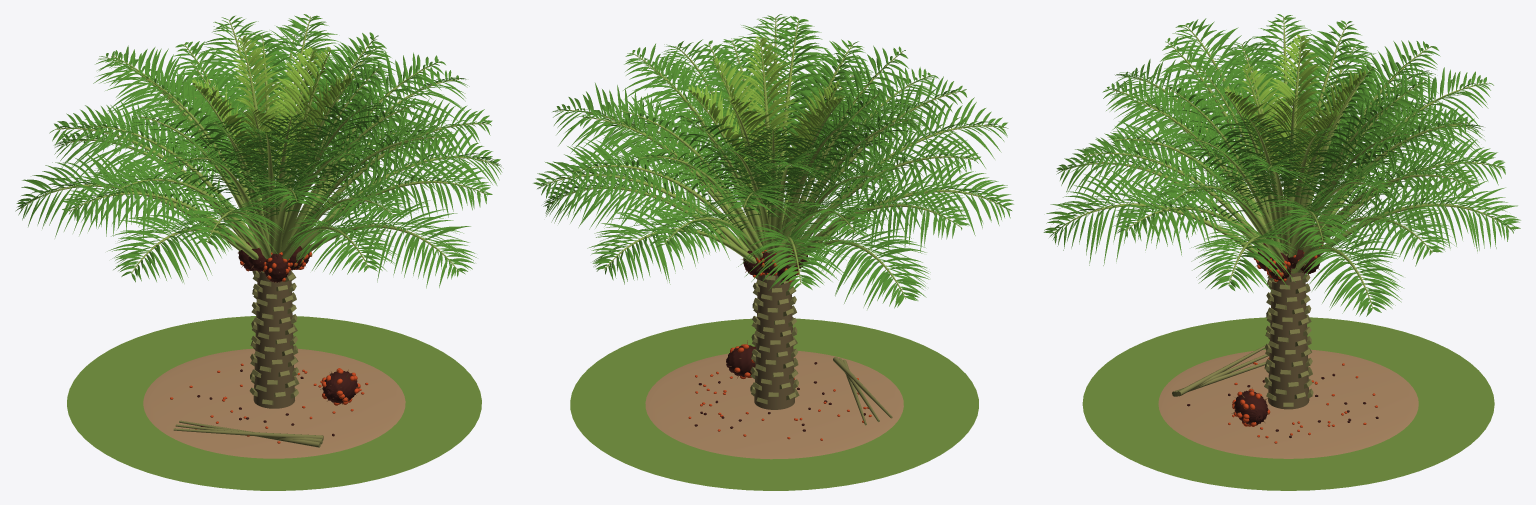
The model's file is kelapa-sawit-tm-remaja.glb.
3 views of the same model, side by side, from view 1: azimuth 30°, elevation 25°; view 2: azimuth 150°, elevation 25°; view 3: azimuth 270°, elevation 25° (orthographic).
Visible parts, largest first — view 1: rumput, piringan, anak_daun_46, batang, anak_daun_44, anak_daun_47, anak_daun_41, anak_daun_38, anak_daun_39, anak_daun_36, anak_daun_30, anak_daun_31 (+41 smaller); view 2: rumput, piringan, anak_daun_47, batang, anak_daun_45, anak_daun_39, anak_daun_40, anak_daun_42, anak_daun_32, anak_daun_44, anak_daun_36, anak_daun_31 (+42 smaller); view 3: rumput, piringan, anak_daun_46, anak_daun_48, batang, anak_daun_45, anak_daun_43, anak_daun_40, anak_daun_38, anak_daun_35, anak_daun_32, anak_daun_29 (+42 smaller).
Boxes of the visible parts, x1,y1,x2,y2 form: rumput: [67, 316, 481, 490]; piringan: [143, 348, 405, 458]; anak_daun_46: [335, 200, 476, 288]; batang: [253, 271, 294, 408]; anak_daun_44: [107, 204, 235, 283]; anak_daun_47: [15, 153, 184, 237]; anak_daun_41: [286, 203, 399, 274]; anak_daun_38: [341, 155, 492, 225]; anak_daun_39: [61, 159, 206, 238]; anak_daun_36: [168, 183, 283, 253]; anak_daun_30: [339, 98, 492, 198]; anak_daun_31: [106, 151, 235, 221]; rumput: [570, 318, 978, 490]; piringan: [645, 351, 903, 459]; anak_daun_47: [809, 217, 930, 309]; batang: [754, 274, 794, 409]; anak_daun_45: [587, 201, 721, 284]; anak_daun_39: [830, 178, 969, 252]; anak_daun_40: [533, 145, 695, 224]; anak_daun_42: [738, 222, 850, 290]; anak_daun_32: [567, 134, 714, 217]; anak_daun_44: [860, 160, 1013, 235]; anak_daun_36: [847, 97, 1008, 191]; anak_daun_31: [835, 124, 980, 209]; rumput: [1082, 317, 1494, 490]; piringan: [1158, 349, 1418, 458]; anak_daun_46: [1043, 170, 1207, 265]; anak_daun_48: [1297, 232, 1404, 316]; batang: [1268, 272, 1309, 409]; anak_daun_45: [1365, 170, 1520, 251]; anak_daun_43: [1191, 217, 1296, 292]; anak_daun_40: [1329, 187, 1454, 266]; anak_daun_38: [1111, 181, 1241, 255]; anak_daun_35: [1258, 189, 1369, 251]; anak_daun_32: [1342, 142, 1480, 218]; anak_daun_29: [1346, 67, 1493, 181].
Bounding box in the file's own units: 10.08 × 7.99 × 10.22.
